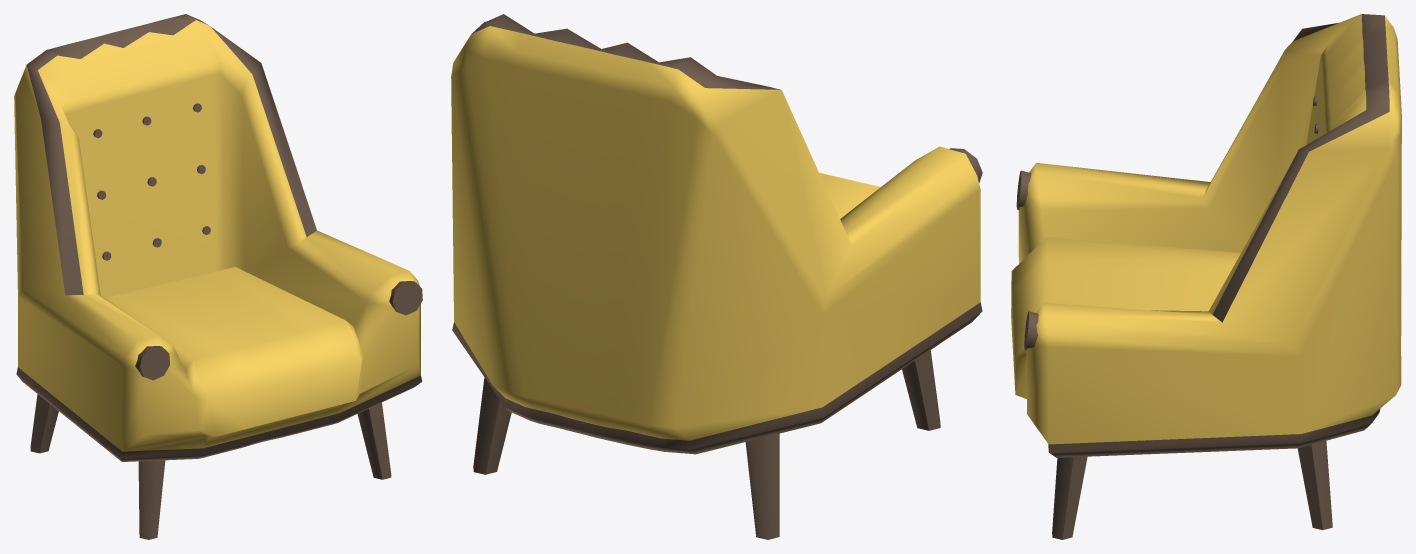
File: Chair_Armchair_231109.glb
The picture shows the model from 3 angles, left to right: view 1: azimuth 30°, elevation 25°; view 2: azimuth 150°, elevation 25°; view 3: azimuth 270°, elevation 25°; orthographic projection. The views are drawn at different scales.
Parts seen in each view (by area): view 1: Armchair; view 2: Armchair; view 3: Armchair.
Boxes of the visible parts, x1,y1,x2,y2 form: Armchair: (14, 14, 422, 539); Armchair: (451, 14, 982, 539); Armchair: (1011, 14, 1401, 539).
Bounding box in the file's own units: 1.51 × 1.75 × 1.49.
Materials: 1 (1 with a texture image).
